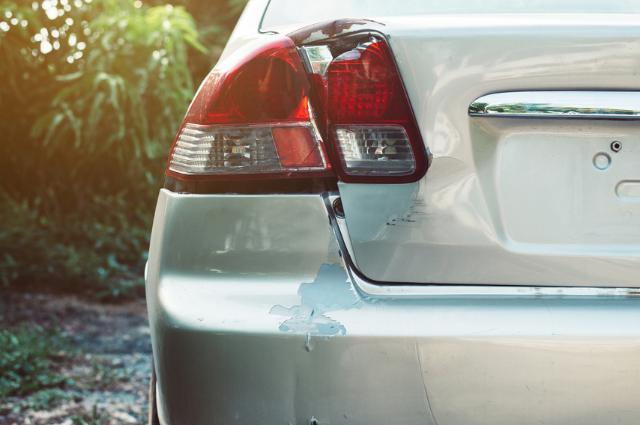Bumper: (275, 199, 364, 425)
Dickey: (371, 57, 519, 277)
Light: (305, 35, 424, 174)
